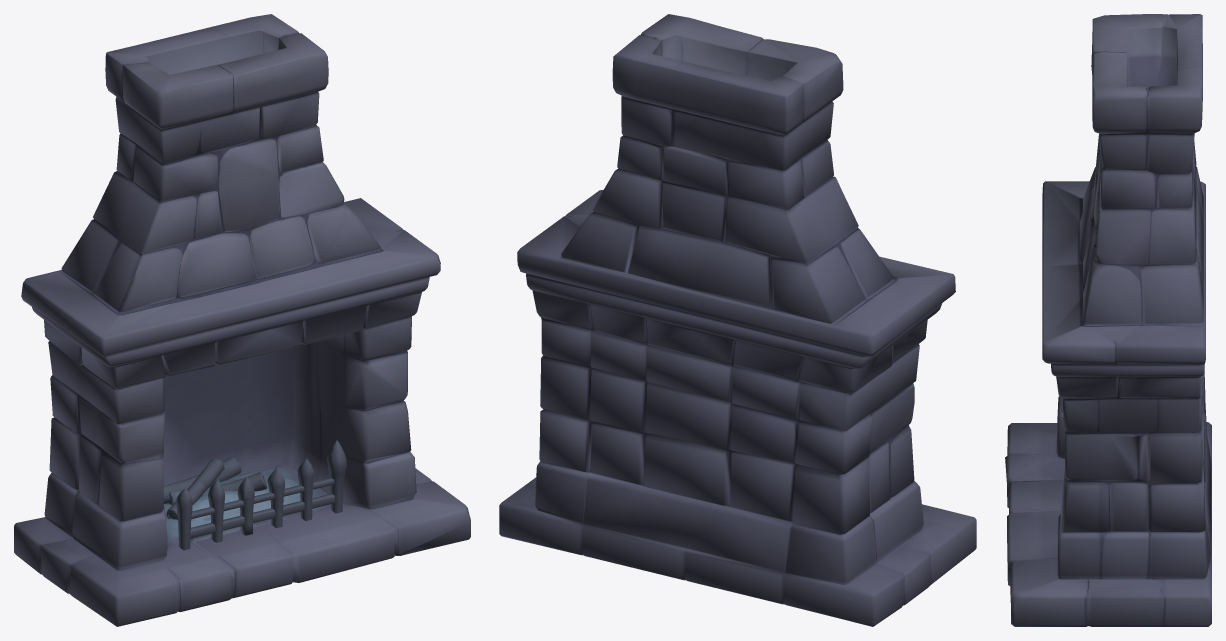
File: stone_fireplace_3d_model.fbx
The picture shows the model from 3 angles, left to right: view 1: azimuth 30°, elevation 25°; view 2: azimuth 150°, elevation 25°; view 3: azimuth 270°, elevation 25°; orthographic projection. The views are drawn at different scales.
Parts seen in each view (by area): view 1: tripo_node_1c85dcf1-4559-4afe-8555-54dc39f2076a; view 2: tripo_node_1c85dcf1-4559-4afe-8555-54dc39f2076a; view 3: tripo_node_1c85dcf1-4559-4afe-8555-54dc39f2076a.
Part boxes in pixels (x1,y1,x2,y2): tripo_node_1c85dcf1-4559-4afe-8555-54dc39f2076a: (14, 14, 470, 626); tripo_node_1c85dcf1-4559-4afe-8555-54dc39f2076a: (499, 14, 976, 626); tripo_node_1c85dcf1-4559-4afe-8555-54dc39f2076a: (1005, 14, 1211, 626).
Size of the model in its own units: 0.7817 by 0.9995 by 0.3882.
Materials: 1 (1 with a texture image).
